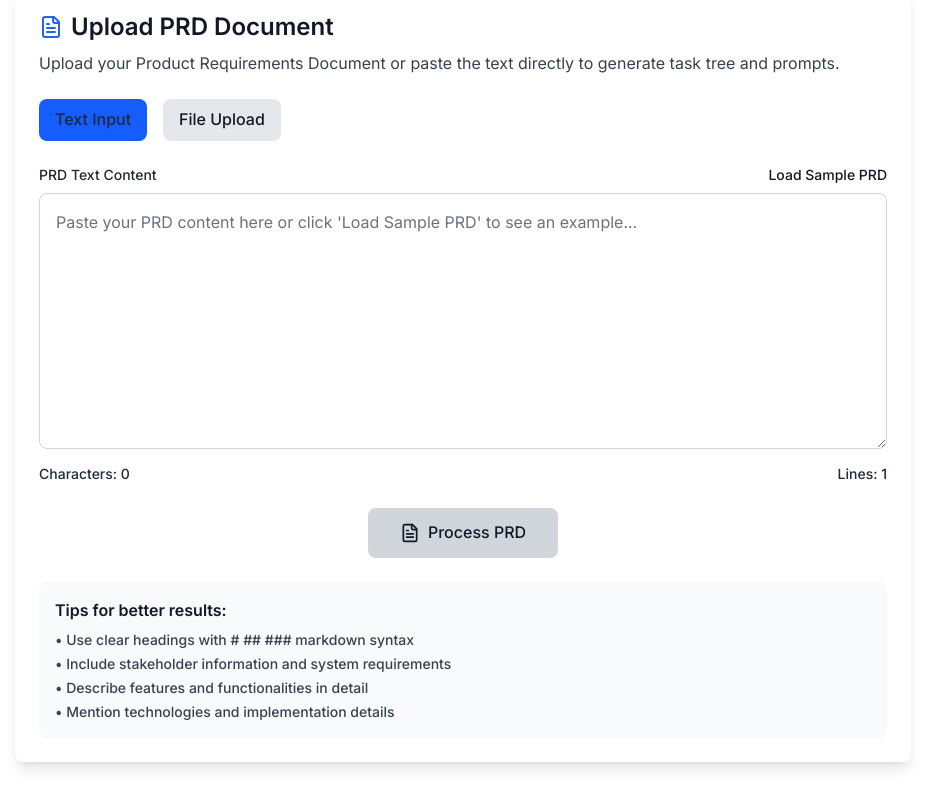
Test: PrdUpload Component › Method Selection › switches back to text input mode when text input button is clicked
Note: Switch to file upload first
Click the button "File Upload" at (222, 120), box [163, 99, 281, 141]
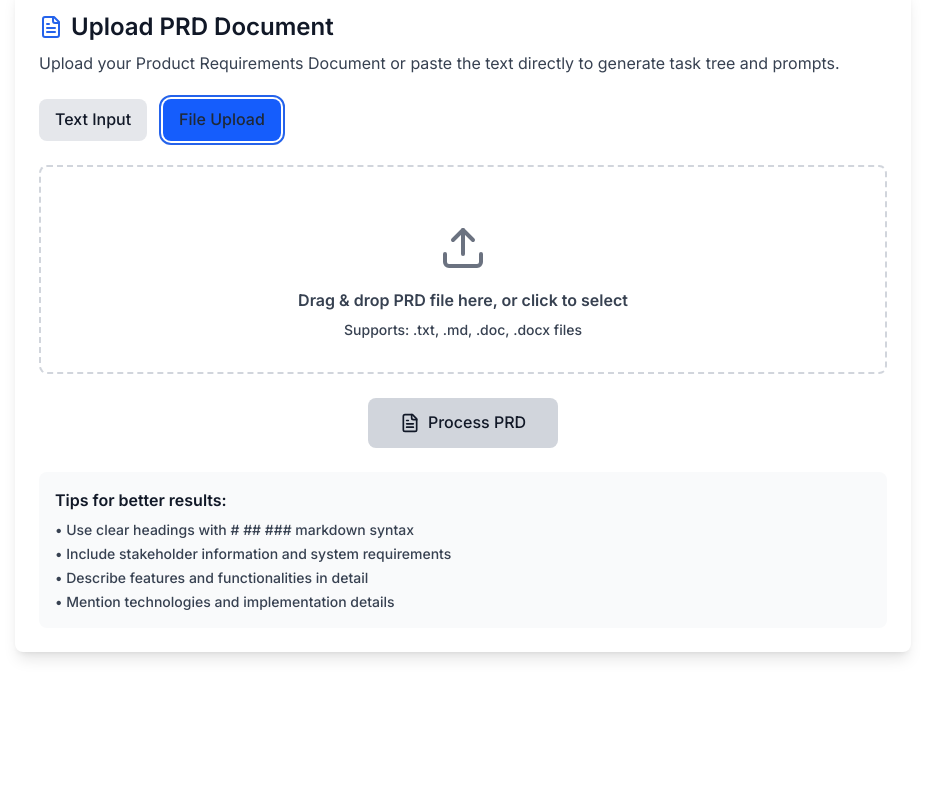
Note: Switch back to text input
Click the button "Text Input" at (93, 120), box [39, 99, 147, 141]
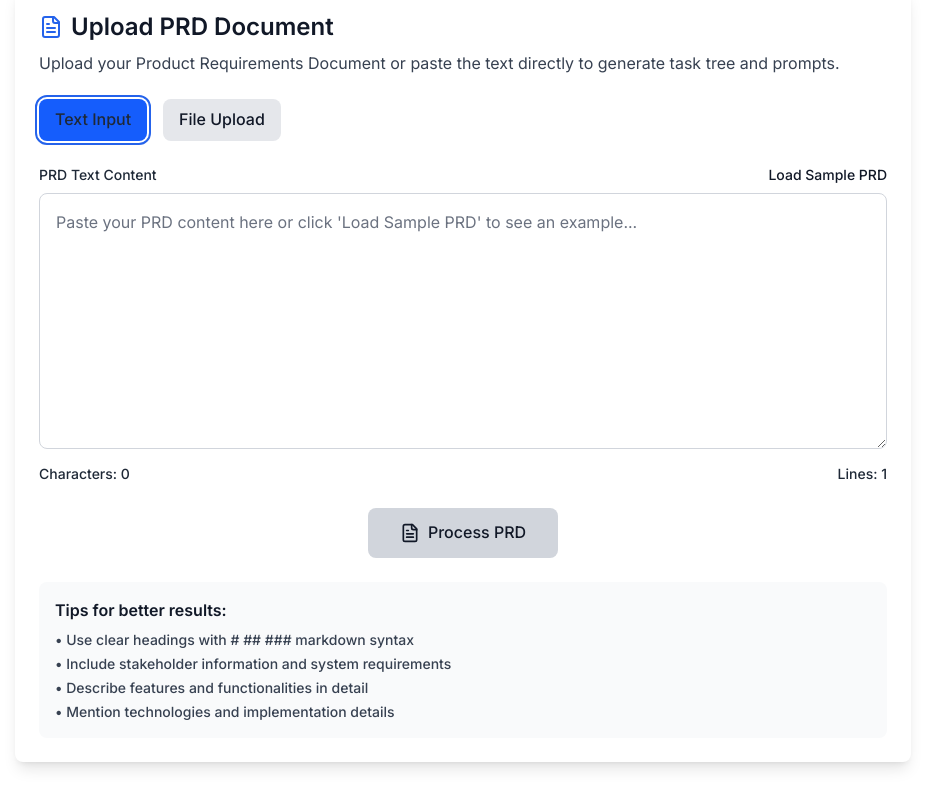
Check: the text box with placeholder "Paste your PRD content here" is shown, box [39, 193, 887, 449]
